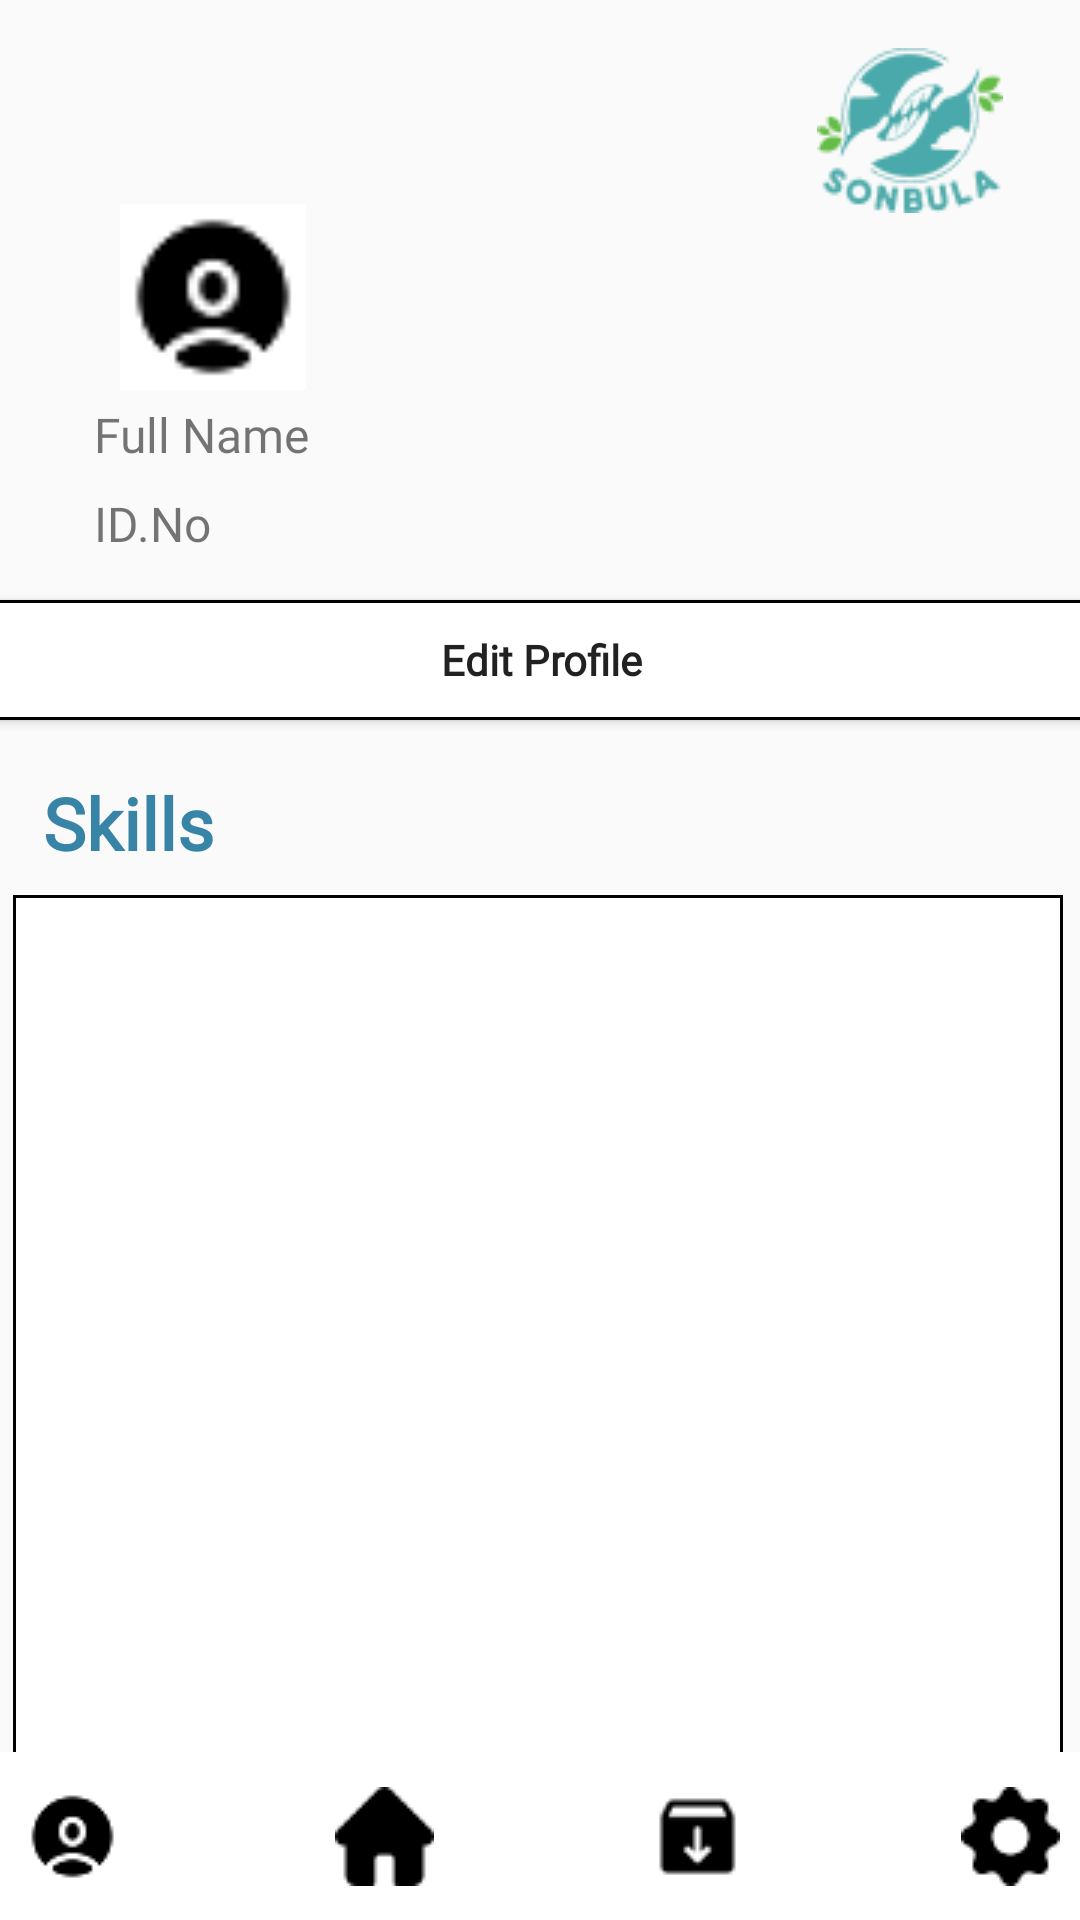

Icon click points for this 1080x1920 phone screenshot, format (x=x, y=y):
downloads: (x=697, y=1836)
home: (x=384, y=1836)
